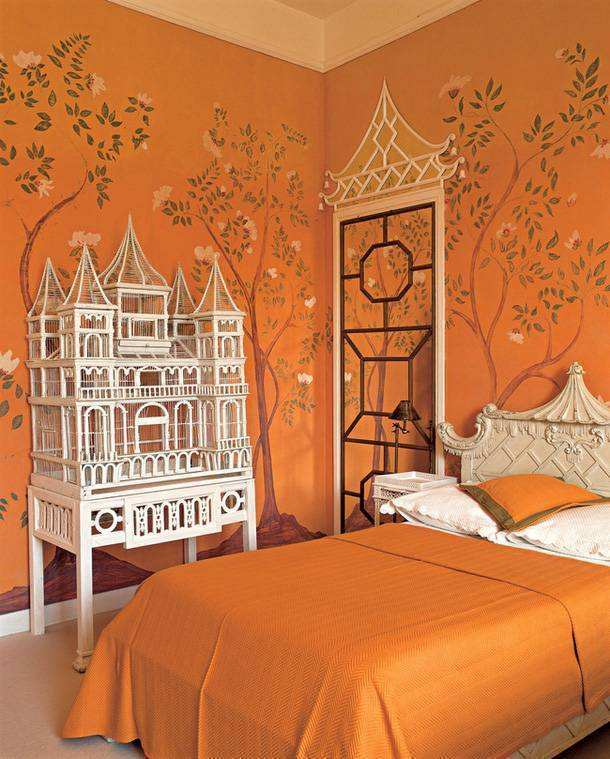床: (90, 514, 610, 758)
枕头: (377, 475, 599, 554)
